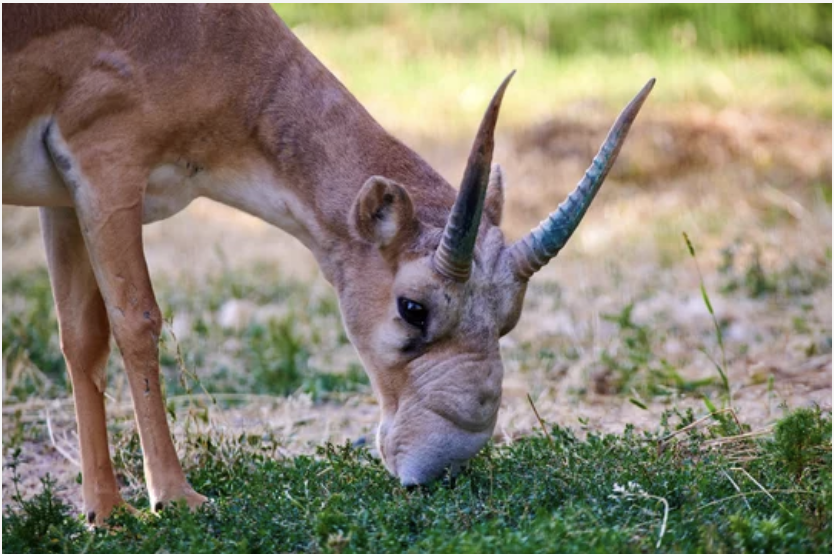saiga: (5, 4, 670, 502)
